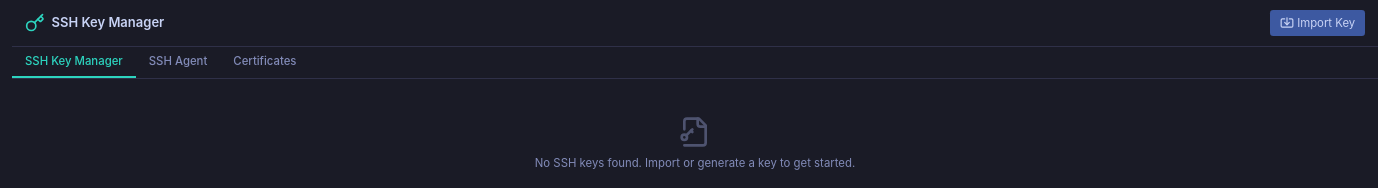
KeyManager › imports a key
Expected: the text "No SSH keys found. Import or generate a key to get started." is shown, left=535, top=155, right=855, bottom=171
Click the button "Import Key": click(1318, 23) left=1270, top=10, right=1365, bottom=36
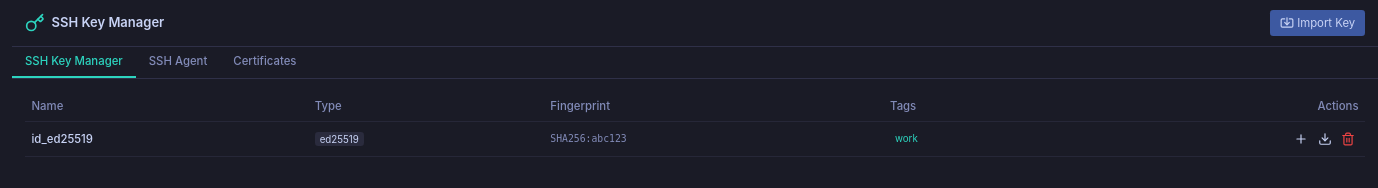
Now the text "id_ed25519" is shown, box left=25, top=122, right=308, bottom=156
